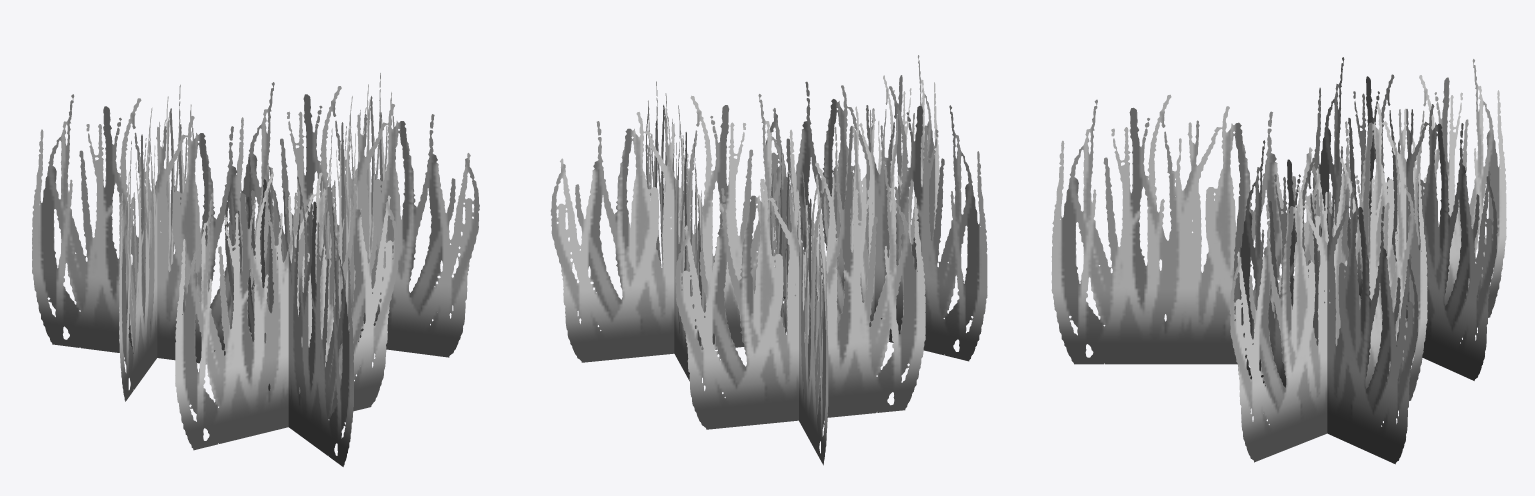
The model's file is Grass v1.fbx.
3 views of the same model, side by side, from view 1: azimuth 30°, elevation 25°; view 2: azimuth 150°, elevation 25°; view 3: azimuth 270°, elevation 25° (orthographic). The views are drawn at different scales.
Visible parts, largest first — view 1: Grass v1; view 2: Grass v1; view 3: Grass v1.
Part boxes in pixels (box(x1,y1,x2,y2)): Grass v1: box(32, 73, 479, 466); Grass v1: box(550, 55, 987, 465); Grass v1: box(1051, 57, 1506, 464).
Size of the model in its own units: 0.416 by 0.3 by 0.4675.
1 material, 1 textured.
